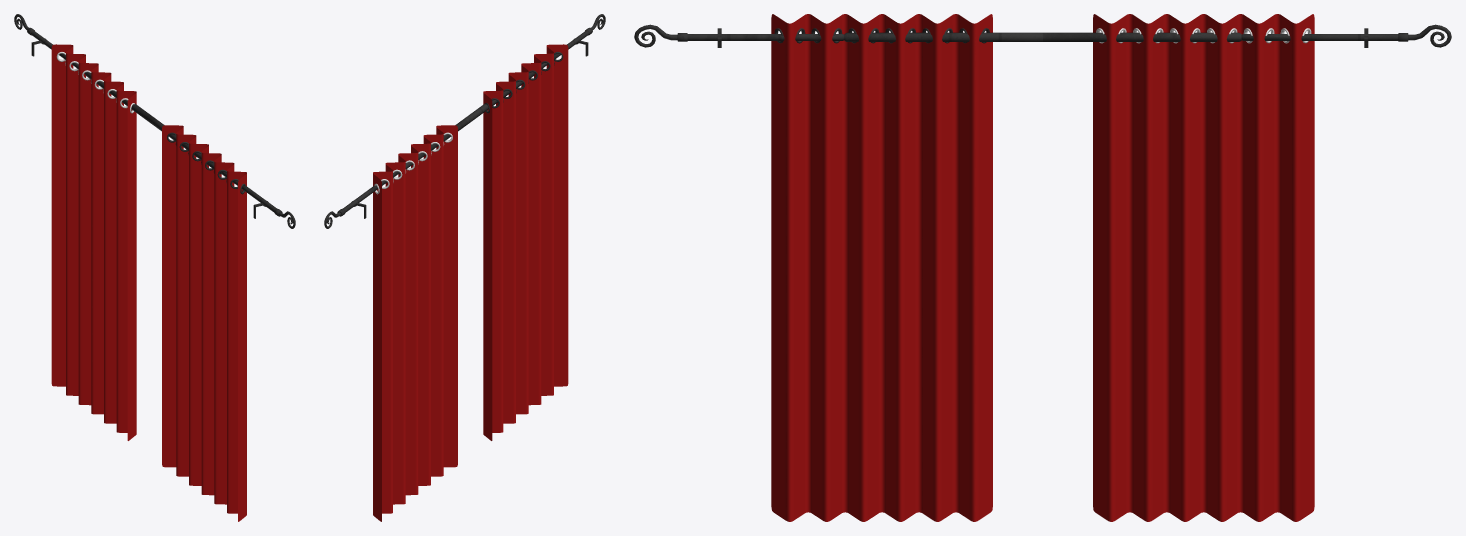
Rendered from Curtains_SD.fbx.
3 views of the same model, side by side, from view 1: azimuth 30°, elevation 25°; view 2: azimuth 150°, elevation 25°; view 3: azimuth 270°, elevation 25° (orthographic). The views are drawn at different scales.
Visible parts, largest first — view 1: Curtains_CurtainFolds_left_L___Curtains_LINK_blend_Dupli_2, Curtains_CurtainFolds_right_L___Curtains_LINK_blend_Dupli_, Curtains_RodThick_L___Curtains_LINK_blend_Dupli_8, Curtains_RodThinner_L___Curtains_LINK_blend_Dupli_6, Curtains_CurtainRings_right_L___Curtains_LINK_blend_Dupli_1, Curtains_CurtainRings_left_001_L___Curtains_LINK_blend_Dupli; view 2: Curtains_CurtainFolds_right_L___Curtains_LINK_blend_Dupli_, Curtains_CurtainFolds_left_L___Curtains_LINK_blend_Dupli_2, Curtains_RodThick_L___Curtains_LINK_blend_Dupli_8, Curtains_RodThinner_L___Curtains_LINK_blend_Dupli_6, Curtains_CurtainRings_left_001_L___Curtains_LINK_blend_Dupli, Curtains_CurtainRings_right_L___Curtains_LINK_blend_Dupli_1; view 3: Curtains_CurtainFolds_left_L___Curtains_LINK_blend_Dupli_2, Curtains_CurtainFolds_right_L___Curtains_LINK_blend_Dupli_, Curtains_RodThick_L___Curtains_LINK_blend_Dupli_8, Curtains_RodThinner_L___Curtains_LINK_blend_Dupli_6, Curtains_SpiralVanity_L___Curtains_LINK_blend_Dupli_5.
Part boxes in pixels (x1,y1,x2,y2): Curtains_CurtainFolds_left_L___Curtains_LINK_blend_Dupli_2: (51, 44, 136, 440); Curtains_CurtainFolds_right_L___Curtains_LINK_blend_Dupli_: (162, 125, 246, 521); Curtains_RodThick_L___Curtains_LINK_blend_Dupli_8: (84, 72, 221, 174); Curtains_RodThinner_L___Curtains_LINK_blend_Dupli_6: (31, 30, 276, 211); Curtains_CurtainRings_right_L___Curtains_LINK_blend_Dupli_1: (167, 132, 245, 194); Curtains_CurtainRings_left_001_L___Curtains_LINK_blend_Dupli: (56, 52, 134, 113); Curtains_CurtainFolds_right_L___Curtains_LINK_blend_Dupli_: (483, 44, 568, 440); Curtains_CurtainFolds_left_L___Curtains_LINK_blend_Dupli_2: (373, 125, 457, 521); Curtains_RodThick_L___Curtains_LINK_blend_Dupli_8: (398, 72, 535, 174); Curtains_RodThinner_L___Curtains_LINK_blend_Dupli_6: (343, 30, 588, 211); Curtains_CurtainRings_left_001_L___Curtains_LINK_blend_Dupli: (374, 132, 452, 194); Curtains_CurtainRings_right_L___Curtains_LINK_blend_Dupli_1: (485, 52, 563, 113); Curtains_CurtainFolds_left_L___Curtains_LINK_blend_Dupli_2: (1093, 14, 1314, 521); Curtains_CurtainFolds_right_L___Curtains_LINK_blend_Dupli_: (771, 14, 992, 521); Curtains_RodThick_L___Curtains_LINK_blend_Dupli_8: (844, 32, 1241, 41); Curtains_RodThinner_L___Curtains_LINK_blend_Dupli_6: (687, 34, 1398, 40); Curtains_SpiralVanity_L___Curtains_LINK_blend_Dupli_5: (634, 24, 1451, 47).
Bounding box in the file's own units: 372 × 7307 × 10866.
